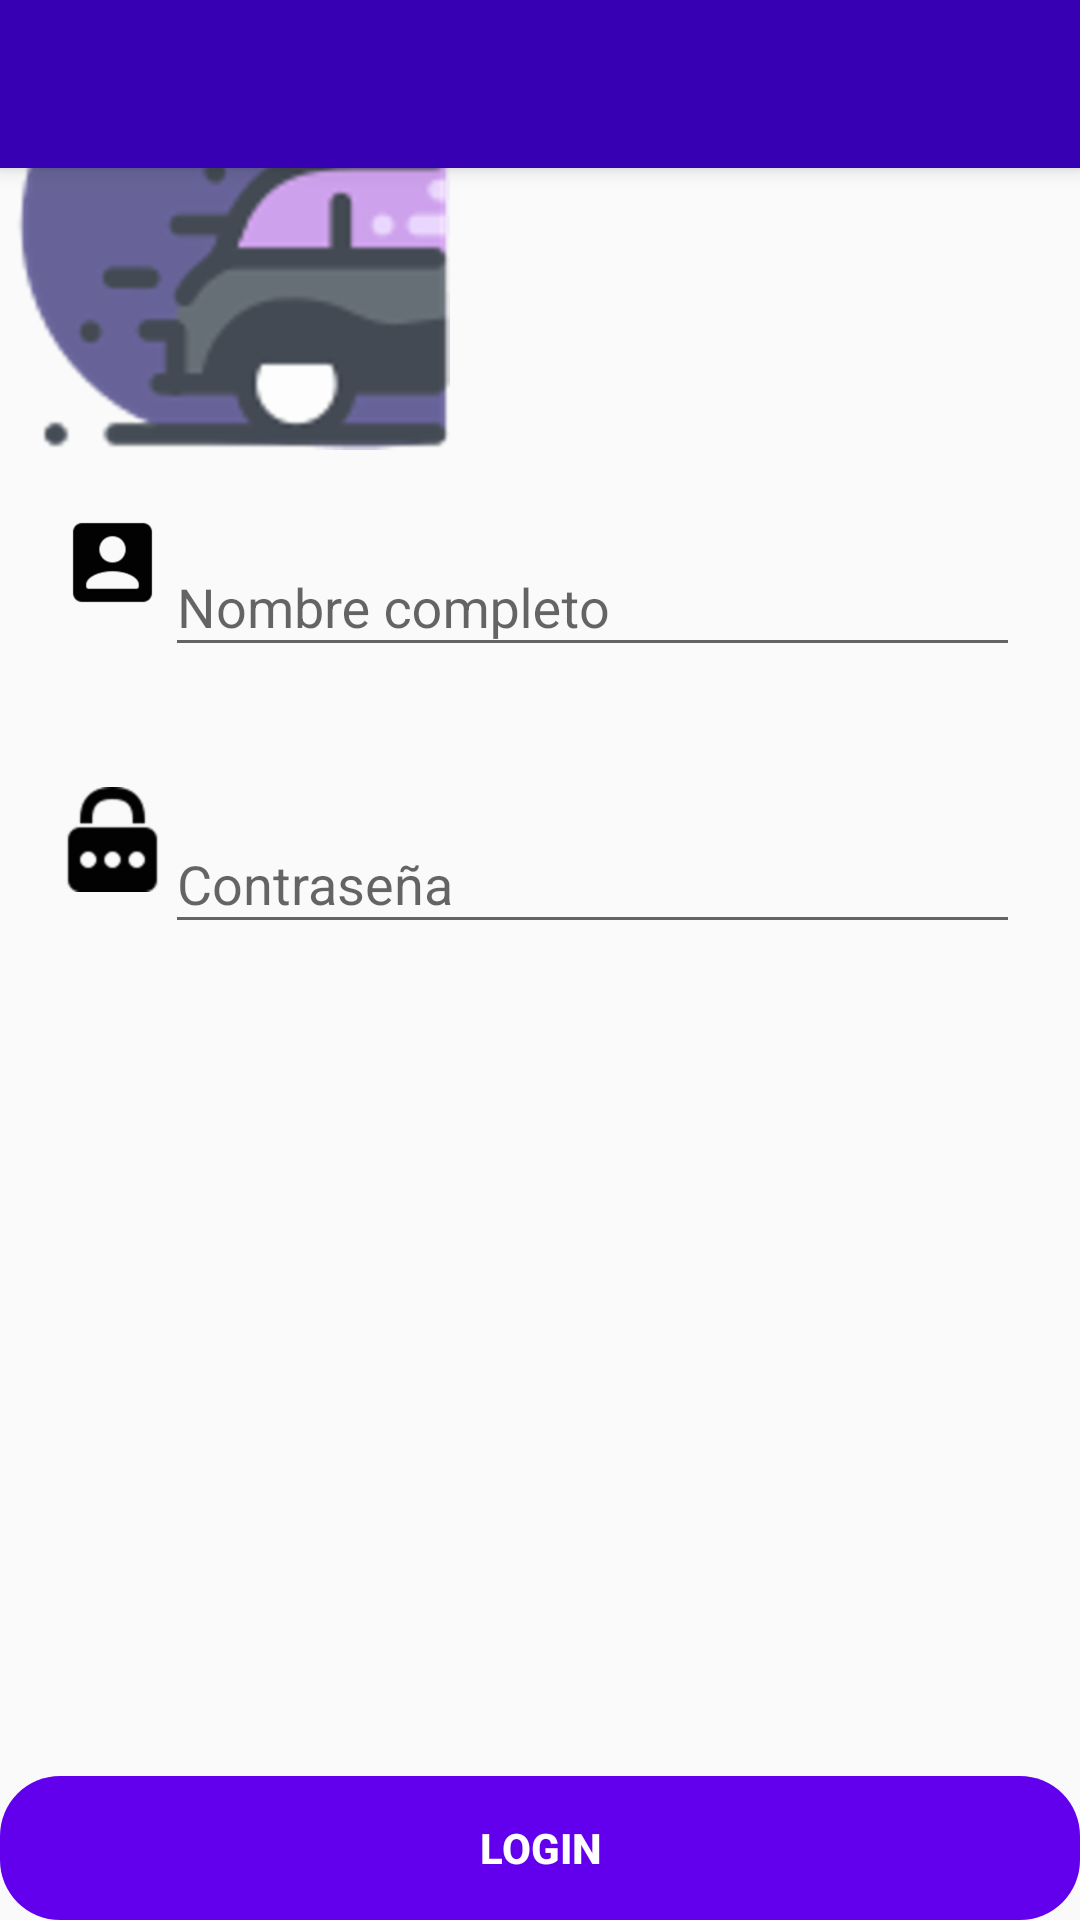

Icon click points for this 1080px x 1920px phone screenshot, format (x=x, y=y):
password: (x=112, y=839)
user: (x=112, y=562)
